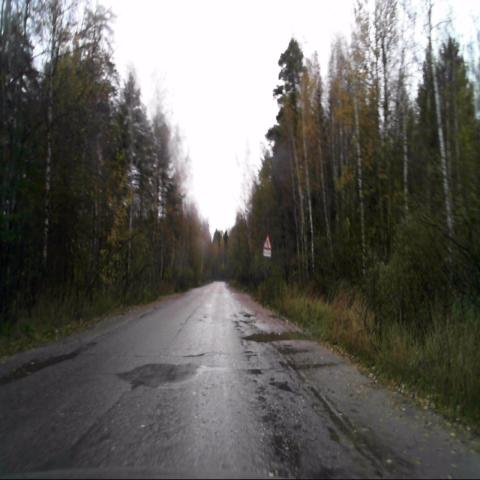1_11_1: (262, 234, 272, 249)
